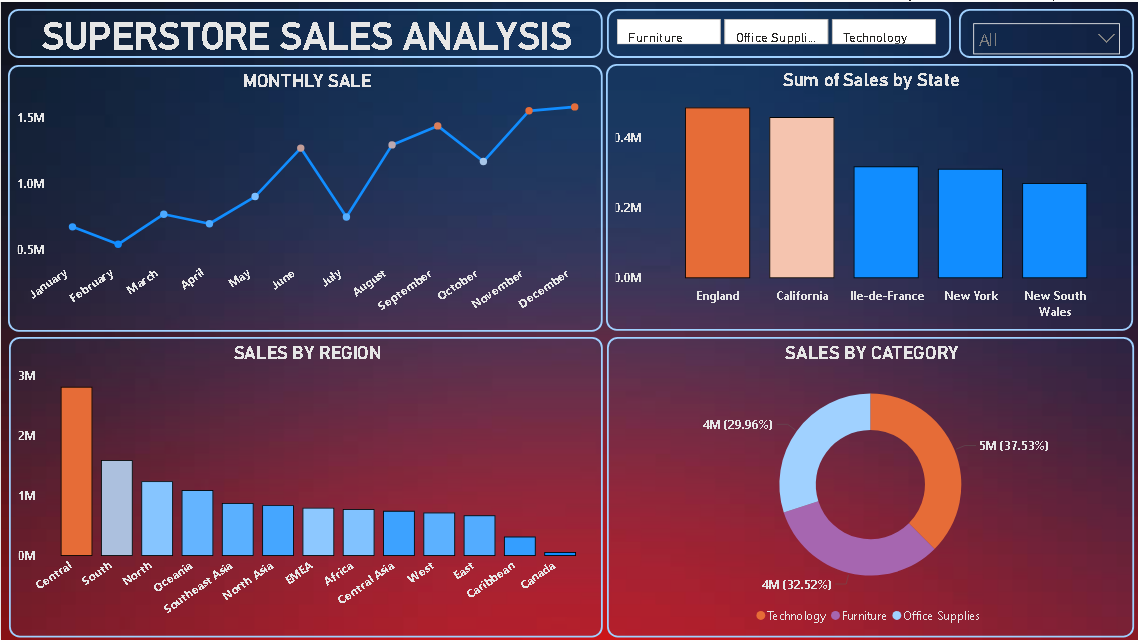

What the dashboard file says about the page in this screenshot:
{"tool":"powerbi","page":{"name":"Page 1","canvas":[1280,720],"ordinal":0},"visuals":[{"type":"textbox","title":"SUPERSTORE  SALES ANALYSIS ","box":[7.7,7.7,669.1,55.1],"z":0},{"type":"lineChart","title":"MONTHLY SALE","fields":{"Category":["superstore.Order.Date.Variation.Date Hierarchy.Month"],"Y":["Sum(superstore.Sales)"]},"box":[7.7,70.4,669.1,300.1],"z":1000},{"type":"clusteredColumnChart","title":"SALES BY REGION","fields":{"Category":["superstore.Region"],"Y":["Sum(superstore.Sales)"]},"box":[9.2,376.7,667.6,338.4],"z":2000},{"type":"donutChart","title":"SALES BY CATEGORY","fields":{"Y":["Sum(superstore.Sales)"],"Category":["superstore.Category"]},"box":[681.3,376.7,592.5,338.4],"z":3000},{"type":"clusteredColumnChart","fields":{"Category":["superstore.State"],"Y":["Sum(superstore.Sales)"]},"box":[681,70,593,300],"z":3001},{"type":"slicer","fields":{"Values":["superstore.Region"]},"box":[1077.8,7.9,196.9,55.1],"z":3002},{"type":"advancedSlicerVisual","fields":{"Values":["superstore.Category"]},"box":[681.8,7.9,387,55.1],"z":3003}]}

Visuals, with their boxes in screenshot pixels (x1, y1, x2, y2), scaled from the page's 1280x720 canvas onto the 1138x640 screenshot:
"SUPERSTORE  SALES ANALYSIS " textbox: box(7, 7, 602, 56)
"MONTHLY SALE" lineChart: box(7, 63, 602, 329)
"SALES BY REGION" clusteredColumnChart: box(8, 335, 602, 636)
"SALES BY CATEGORY" donutChart: box(606, 335, 1132, 636)
clusteredColumnChart - superstore.State x Sum(superstore.Sales): box(605, 62, 1133, 329)
slicer - superstore.Region: box(958, 7, 1133, 56)
advancedSlicerVisual - superstore.Category: box(606, 7, 950, 56)
